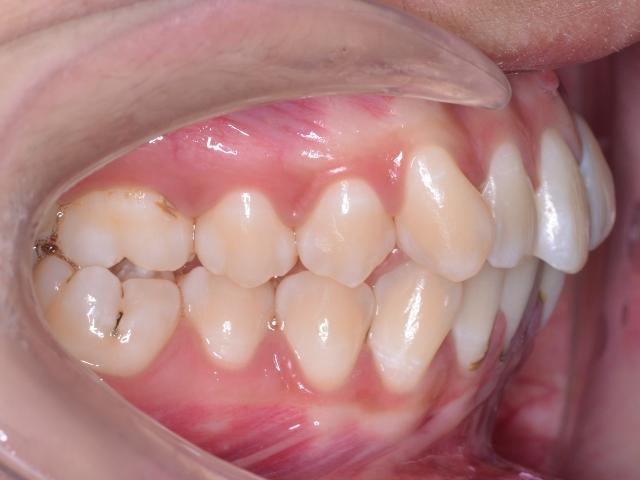canine class II full class: (277, 139, 497, 401)
molar class II 1/2: (22, 190, 196, 380)
